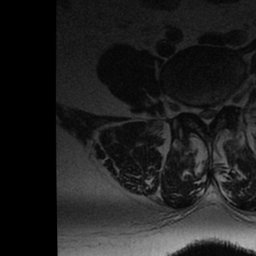CCS_stenosis: (203, 99, 210, 134)
LFS_severe_stenosis: (219, 89, 228, 116)
LLS_stenosis: (210, 98, 219, 126)
RFS_stenosis: (184, 95, 194, 123)
RLS_stenosis: (194, 99, 203, 127)
